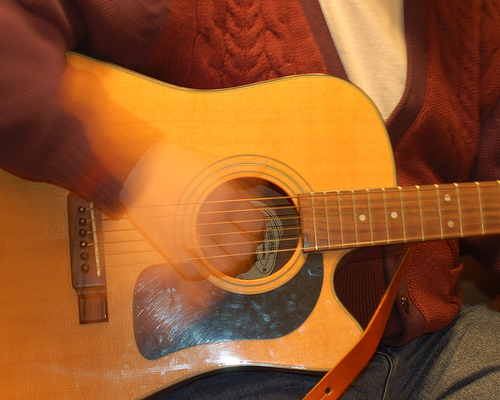guitar: (1, 49, 500, 400)
